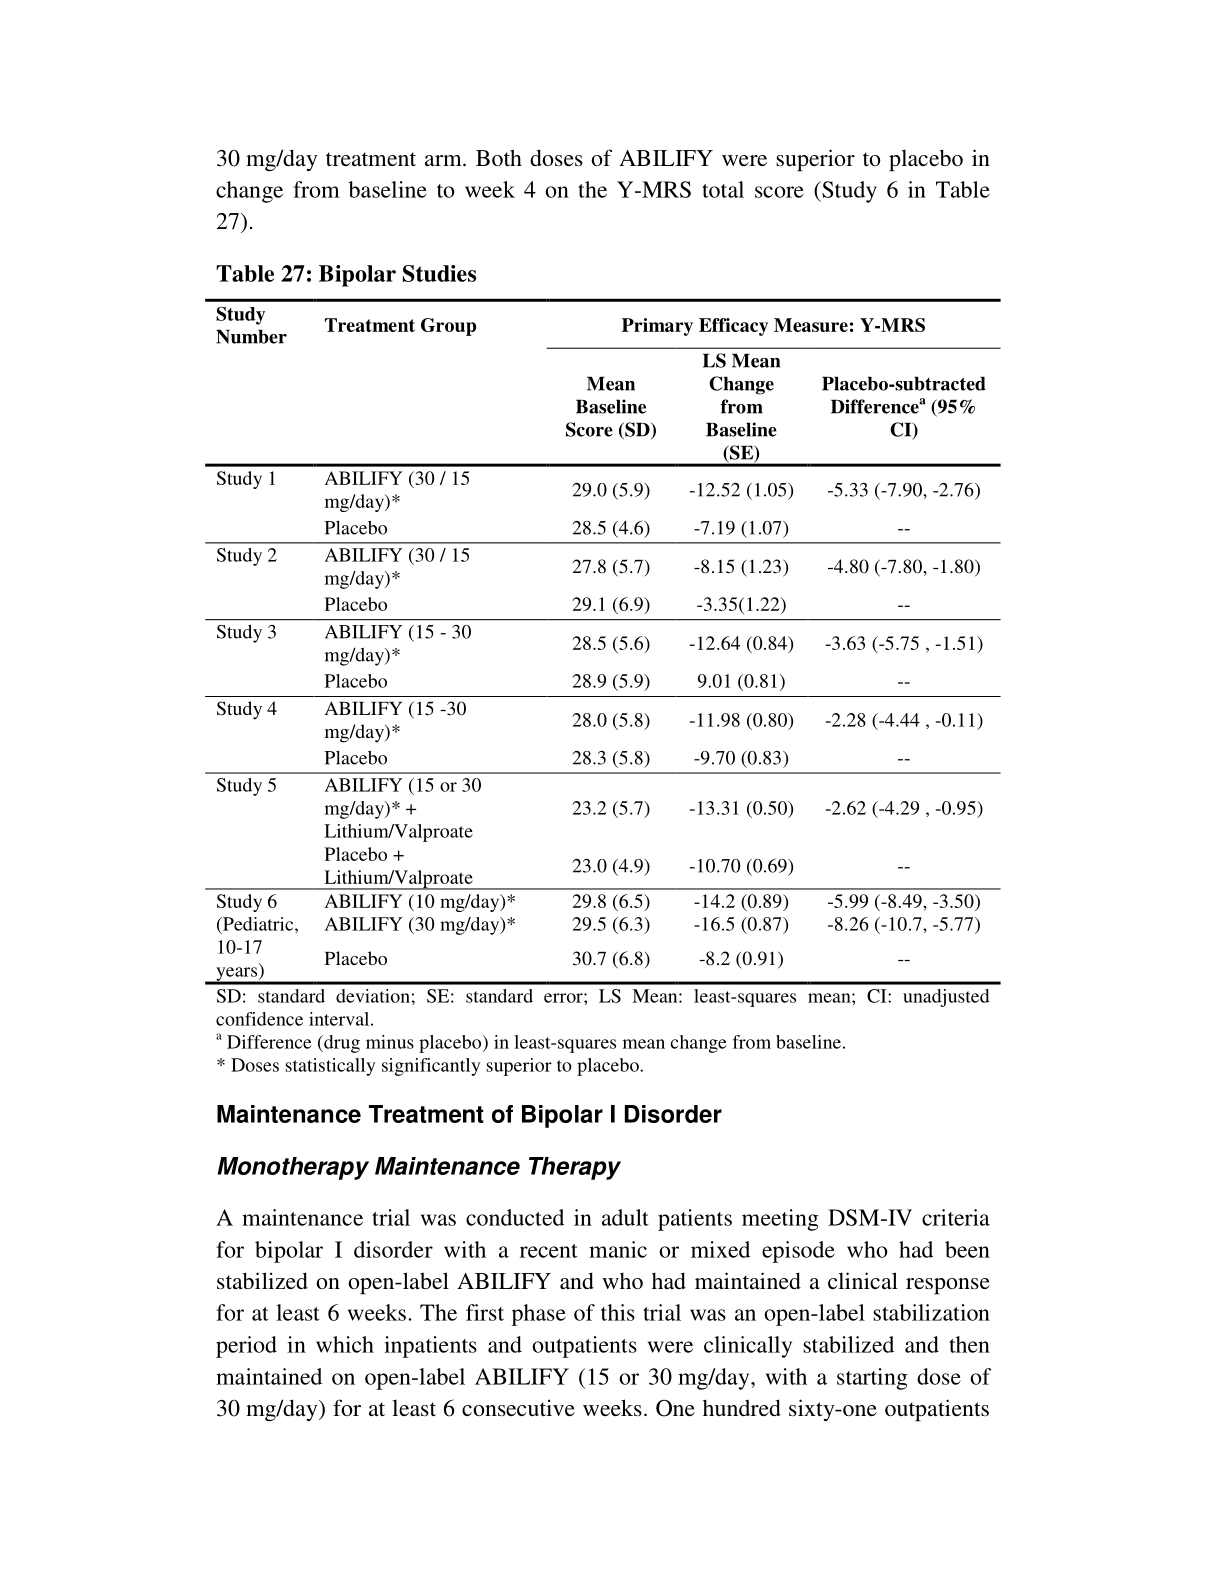partial_lined_merged_cells: (202, 298, 1003, 986)
